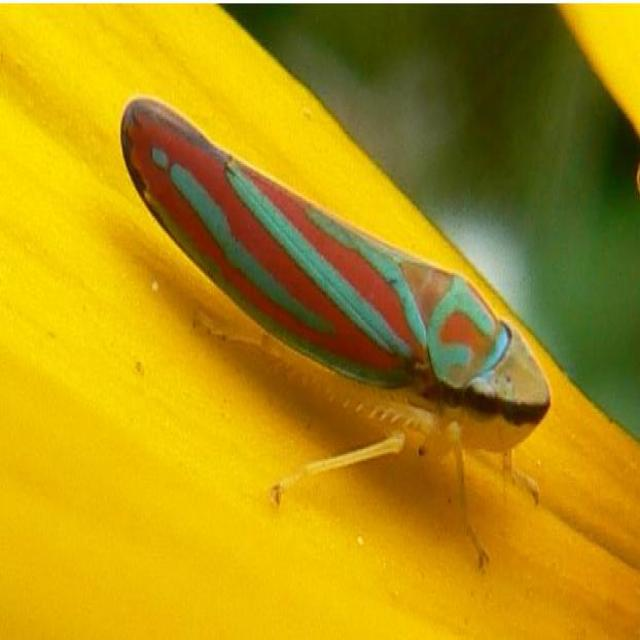Yechan: (100, 75, 579, 516)
